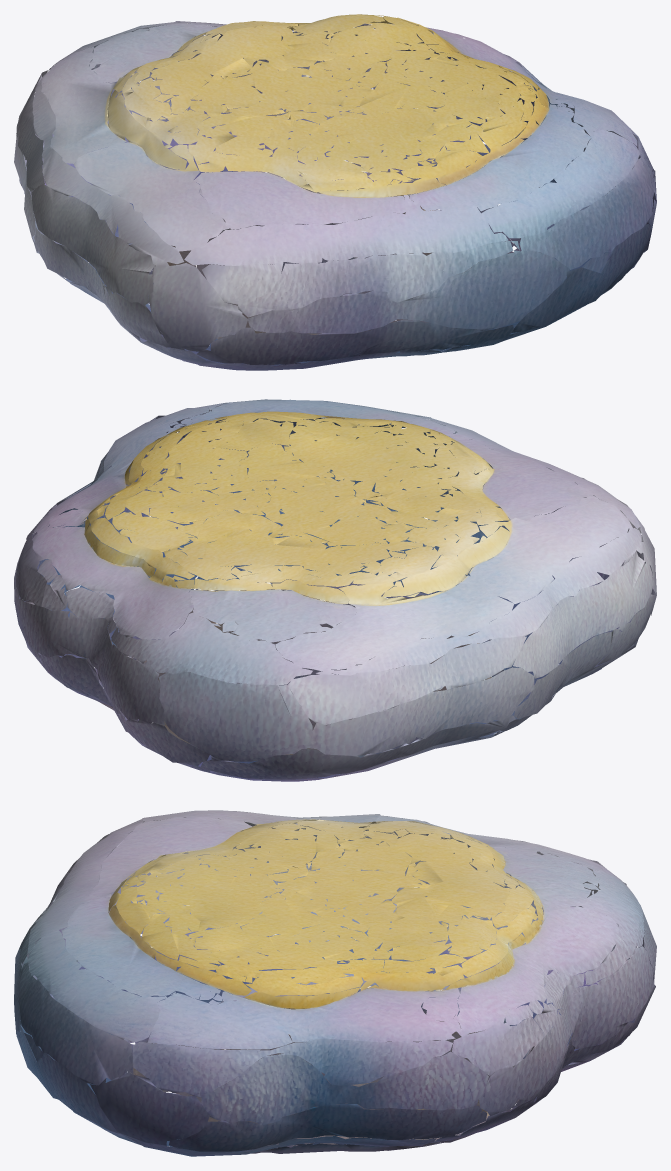
File: Pastel Cloud Podium.glb
The picture shows the model from 3 angles, top to bottom: view 1: azimuth 30°, elevation 25°; view 2: azimuth 150°, elevation 25°; view 3: azimuth 270°, elevation 25°; orthographic projection.
Visible parts, largest first — view 1: texture_mapping; view 2: texture_mapping; view 3: texture_mapping.
Part boxes in pixels (x1,y1,x2,y2): texture_mapping: (14,14,656,370); texture_mapping: (14,399,656,781); texture_mapping: (14,810,656,1156).
Bounding box in the file's own units: 0.9381 × 0.3238 × 1.
Materials: 1 (1 with a texture image).
